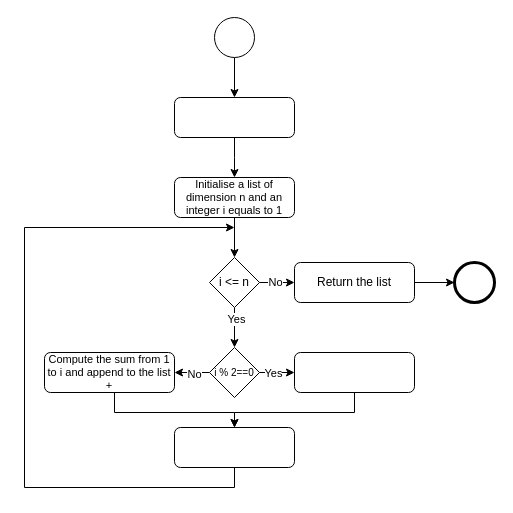
This 513x513 diagram has some shape labels left out. Here are the shapes that lost their labels. From the top down, the centre of each, then its label:
At (234,117): "Receive an integer as n".
At (354,372): "Compute the factorial of i and append to the list +".
At (234,447): "Increase i by 1".
